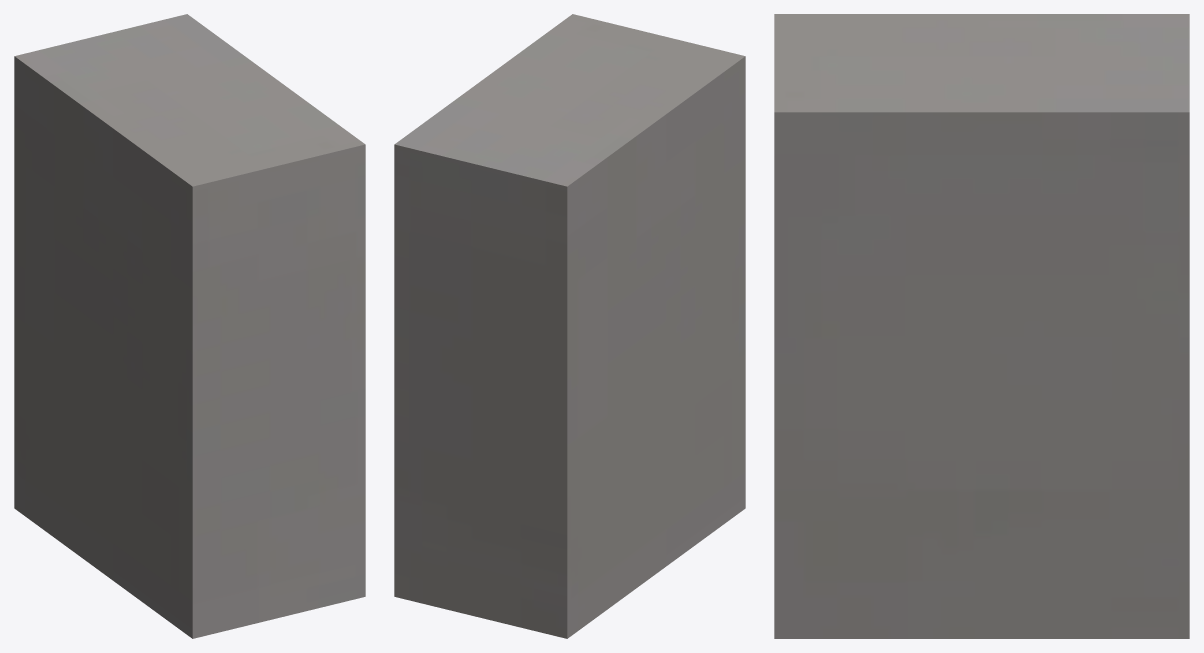
Rendered from wrist__roll_motor_cover.glb.
The picture shows the model from 3 angles, left to right: view 1: azimuth 30°, elevation 25°; view 2: azimuth 150°, elevation 25°; view 3: azimuth 270°, elevation 25°; orthographic projection. The views are drawn at different scales.
Parts seen in each view (by area): view 1: world; view 2: world; view 3: world.
Boxes of the visible parts, left/top/right/bottom form: world: left=14, top=14, right=365, bottom=638; world: left=394, top=14, right=745, bottom=638; world: left=774, top=14, right=1189, bottom=638.
Bounding box in the file's own units: 0.028 × 0.07 × 0.05.
1 material, 1 textured.
